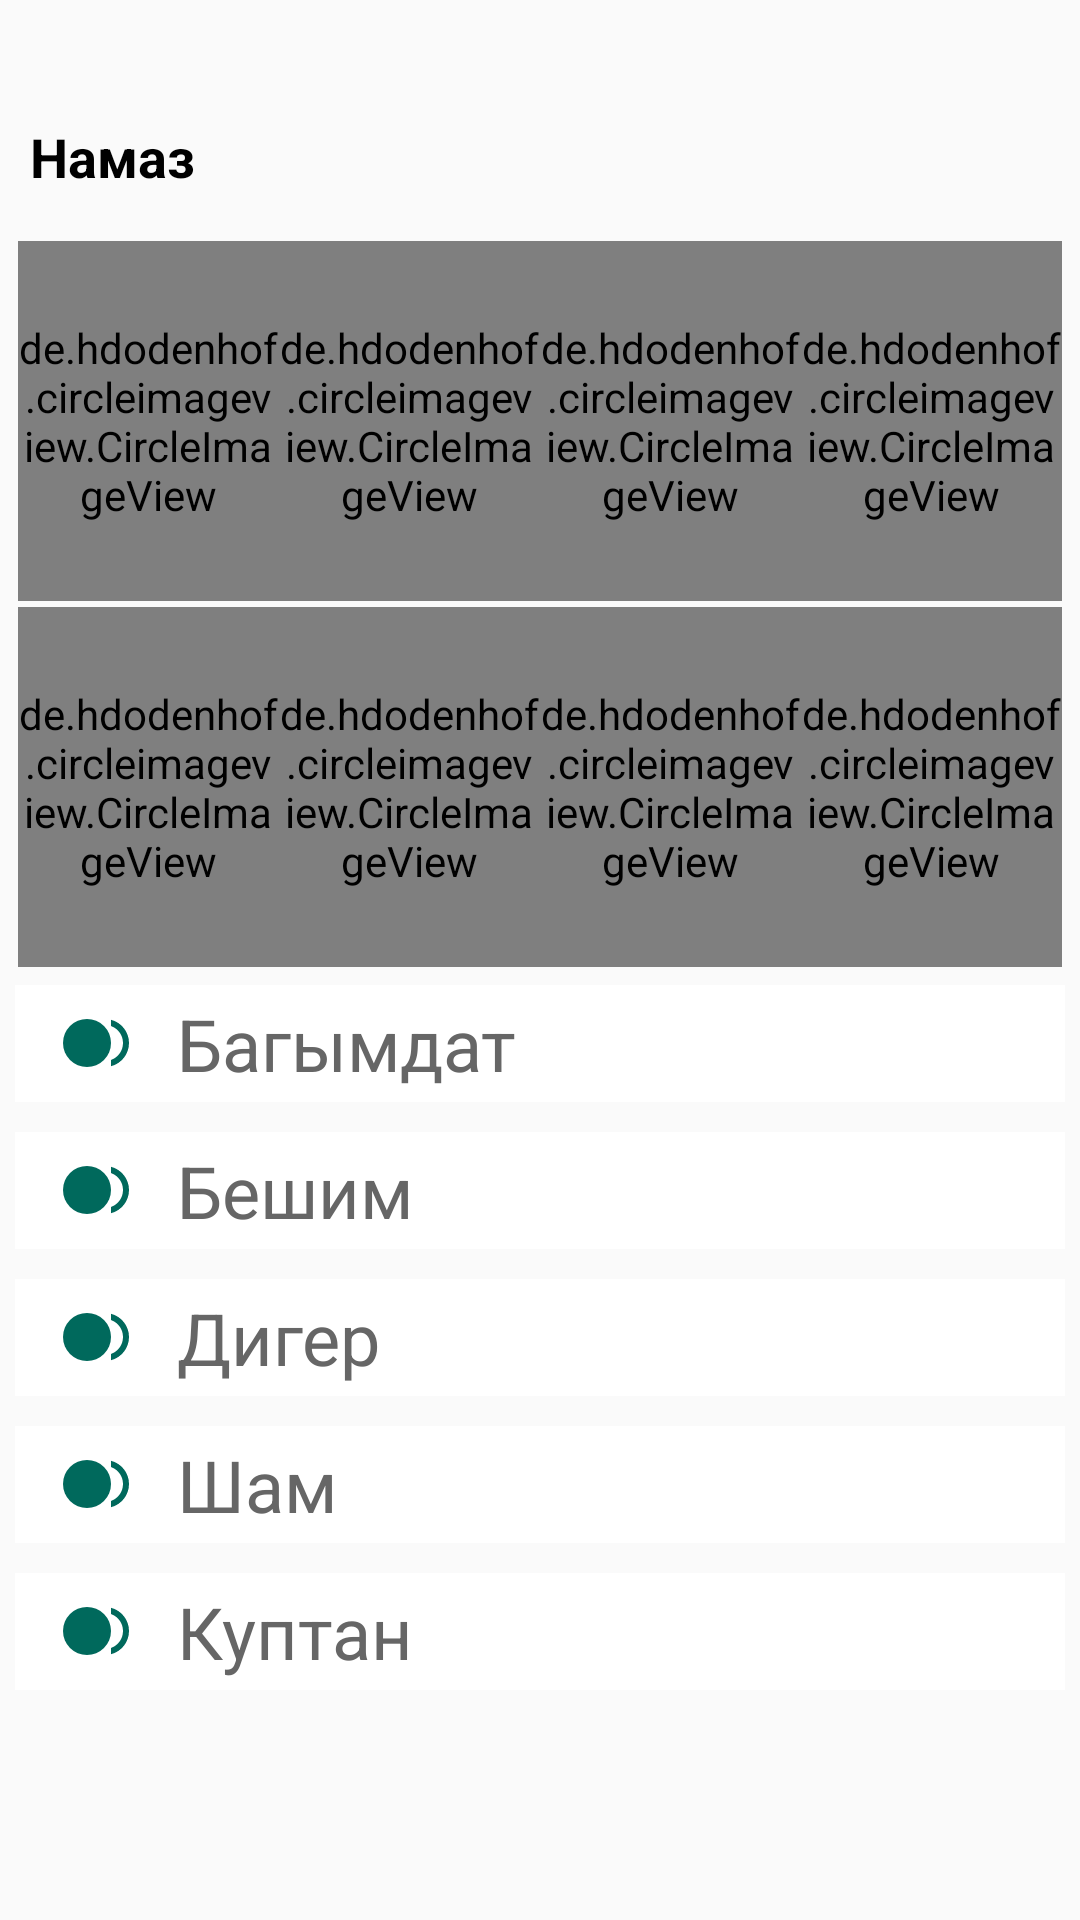

Named icons in this screenshot (1080*1920) and their bounding boxes, detection(x1, y1, x2, y2):
fiber smart record: detection(63, 1019, 129, 1067), detection(63, 1166, 129, 1214), detection(63, 1313, 129, 1361), detection(63, 1460, 129, 1508), detection(63, 1607, 129, 1655)
